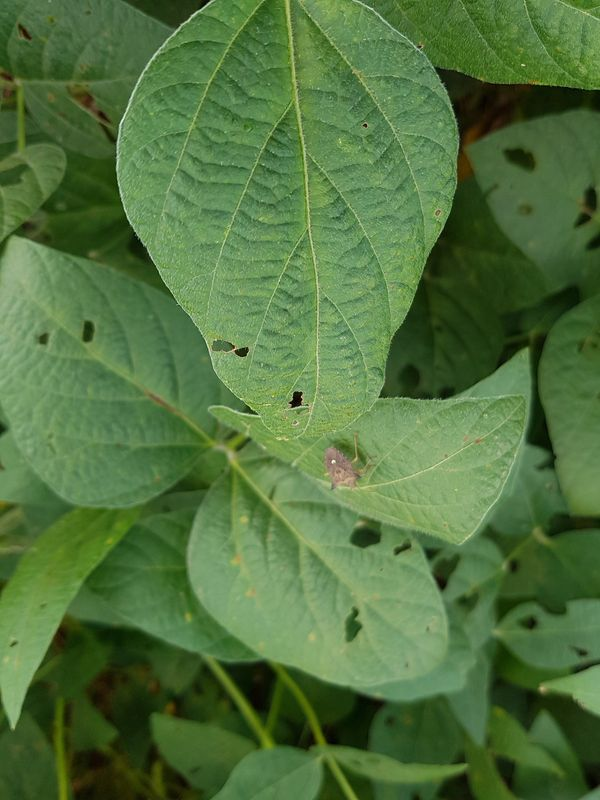Euschistus_heros_adulto: (308, 426, 380, 501)
